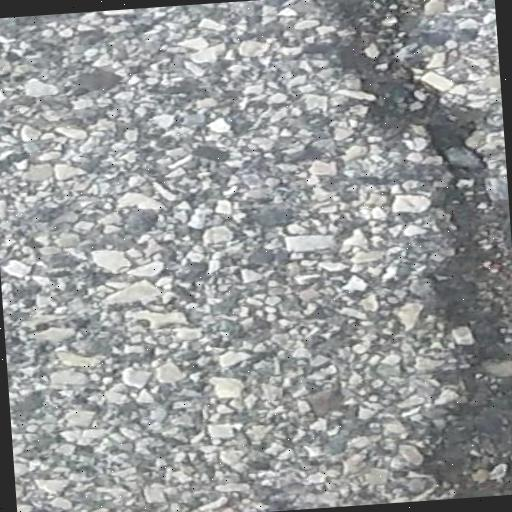spalling: (321, 0, 512, 500)
